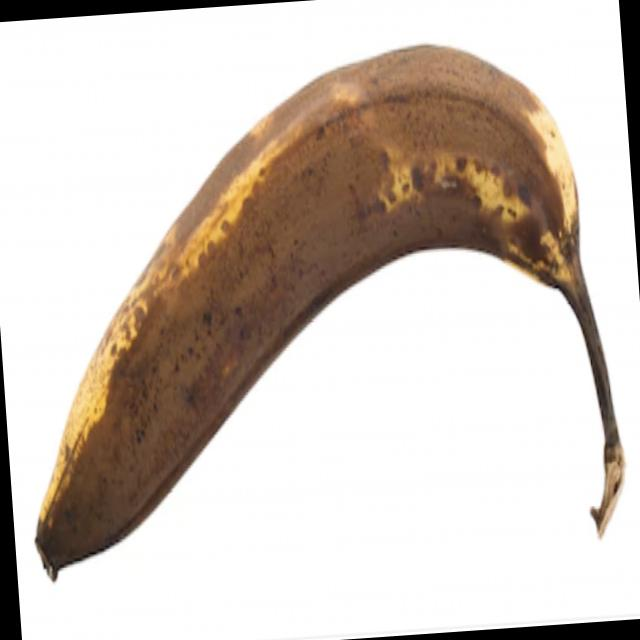rotten-banana: (4, 25, 624, 585)
